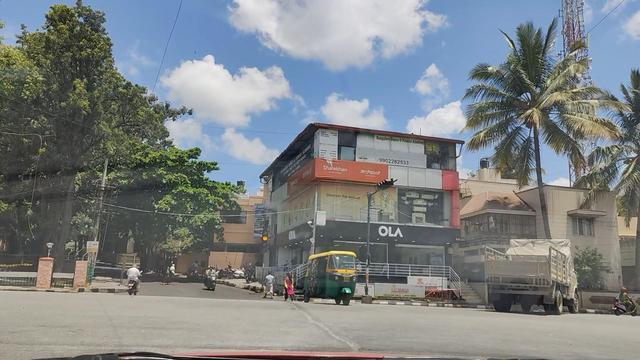HMV: (481, 229, 569, 310)
LMV: (303, 248, 362, 303)
RoadDamages: (301, 316, 361, 353)
